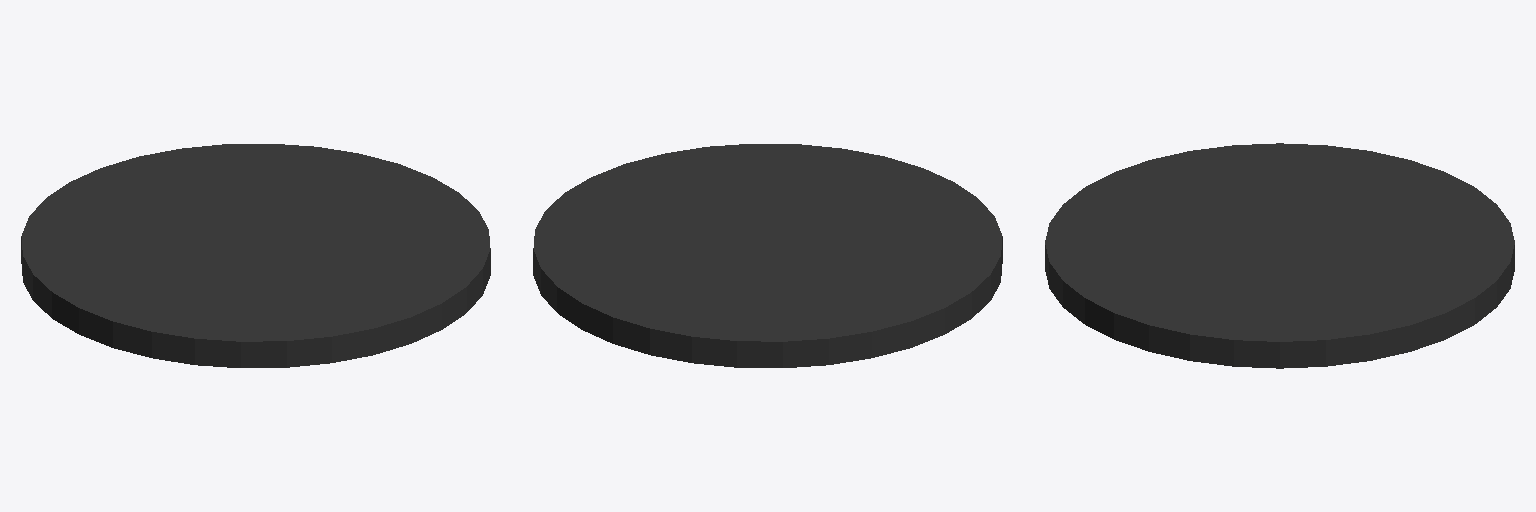
The model's file is puck.obj.
3 views of the same model, side by side, from view 1: azimuth 30°, elevation 25°; view 2: azimuth 150°, elevation 25°; view 3: azimuth 270°, elevation 25° (orthographic).
Parts seen in each view (by area): view 1: Mesh_Mesh_Mesh_Mesh_Mesh_Mesh_Cylinder; view 2: Mesh_Mesh_Mesh_Mesh_Mesh_Mesh_Cylinder; view 3: Mesh_Mesh_Mesh_Mesh_Mesh_Mesh_Cylinder.
Part boxes in pixels (left/top/right/bottom): Mesh_Mesh_Mesh_Mesh_Mesh_Mesh_Cylinder: left=21, top=144, right=490, bottom=367; Mesh_Mesh_Mesh_Mesh_Mesh_Mesh_Cylinder: left=533, top=144, right=1002, bottom=367; Mesh_Mesh_Mesh_Mesh_Mesh_Mesh_Cylinder: left=1045, top=143, right=1514, bottom=368.
Bounding box in the file's own units: 4.5 × 0.2813 × 4.5.